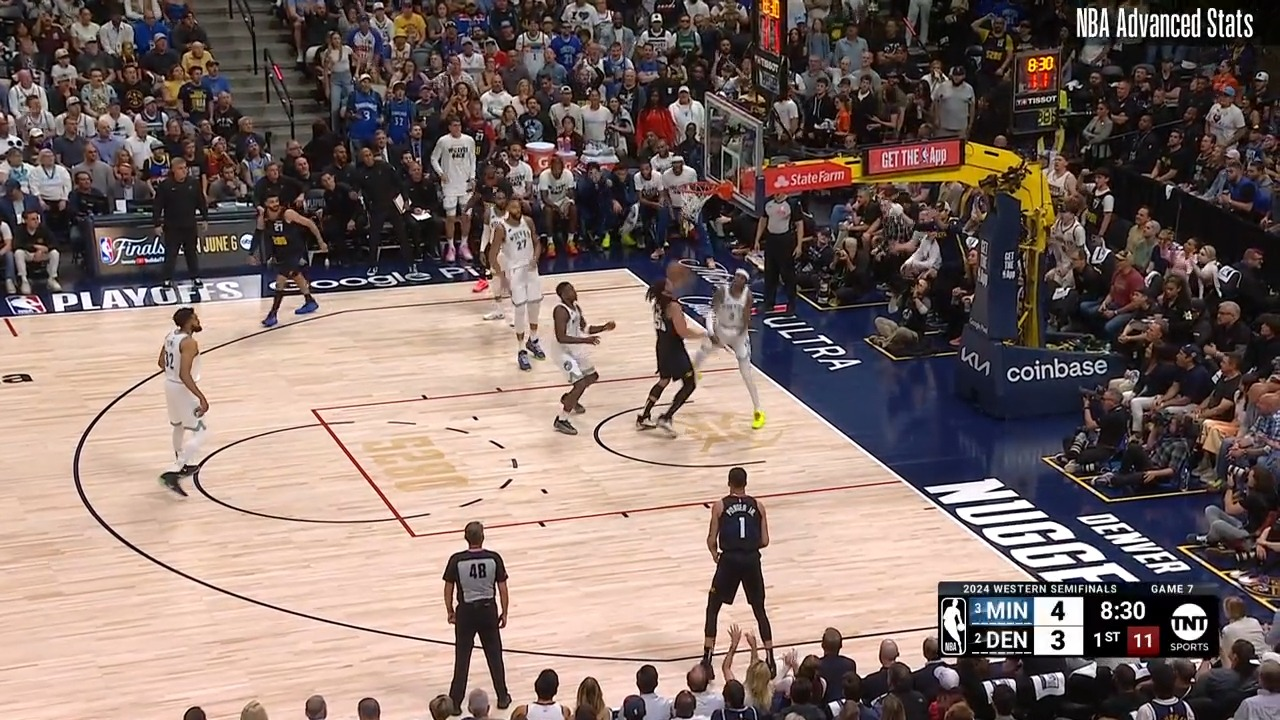basketball: (665, 260, 688, 285)
